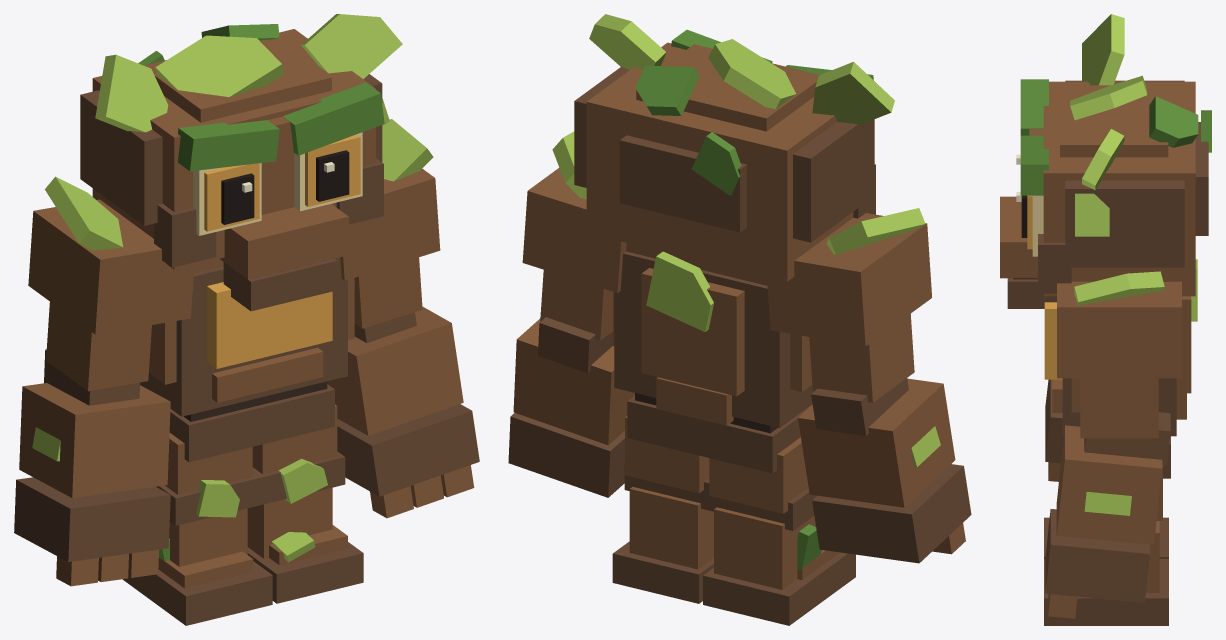
Rendered from TestGolem.glb.
3 renders of one model, left to right at view 1: azimuth 30°, elevation 25°; view 2: azimuth 150°, elevation 25°; view 3: azimuth 270°, elevation 25°, orthographic. The views are drawn at different scales.
Parts seen in each view (by area): view 1: Head, UpperArm_R, Torso, Forearm_R, Hand_R, UpperArm_L, Forearm_L, Hand_L, Pelvis, Foot_R, Shin_R, Shin_L (+3 smaller); view 2: Head, Torso, UpperArm_R, Forearm_R, UpperArm_L, Forearm_L, Hand_R, Shin_R, Pelvis, Shin_L, Hand_L, Foot_R (+3 smaller); view 3: Head, UpperArm_L, Forearm_L, Hand_L, Torso, Foot_L, Hand_R, Shin_L, Foot_R.
Boxes of the visible parts, left/top/right/bottom form: Head: left=80, top=14, right=402, bottom=311; UpperArm_R: left=28, top=176, right=194, bottom=391; Torso: left=140, top=257, right=354, bottom=416; Forearm_R: left=19, top=349, right=170, bottom=498; Hand_R: left=14, top=477, right=170, bottom=586; UpperArm_L: left=340, top=119, right=440, bottom=328; Forearm_L: left=327, top=306, right=463, bottom=435; Hand_L: left=337, top=404, right=479, bottom=518; Pelvis: left=169, top=381, right=334, bottom=462; Foot_R: left=123, top=551, right=272, bottom=625; Shin_R: left=156, top=472, right=260, bottom=566; Shin_L: left=247, top=451, right=345, bottom=558; Head: left=574, top=14, right=894, bottom=281; Torso: left=613, top=243, right=812, bottom=427; UpperArm_R: left=767, top=208, right=931, bottom=402; Forearm_R: left=798, top=378, right=955, bottom=507; UpperArm_L: left=522, top=131, right=626, bottom=340; Forearm_L: left=513, top=317, right=634, bottom=445; Hand_R: left=812, top=464, right=971, bottom=563; Shin_R: left=709, top=483, right=821, bottom=589; Pelvis: left=627, top=393, right=811, bottom=473; Shin_L: left=624, top=463, right=713, bottom=569; Hand_L: left=508, top=413, right=624, bottom=497; Foot_R: left=703, top=550, right=855, bottom=625; Head: left=1000, top=14, right=1211, bottom=308; UpperArm_L: left=1057, top=271, right=1181, bottom=438; Forearm_L: left=1056, top=412, right=1170, bottom=544; Hand_L: left=1045, top=509, right=1149, bottom=618; Torso: left=1044, top=259, right=1197, bottom=436; Foot_L: left=1044, top=559, right=1168, bottom=625; Hand_R: left=1045, top=379, right=1063, bottom=481; Shin_L: left=1146, top=521, right=1159, bottom=592; Foot_R: left=1044, top=517, right=1168, bottom=558.
Bounding box in the file's own units: 4.1 × 5.24 × 1.95.
